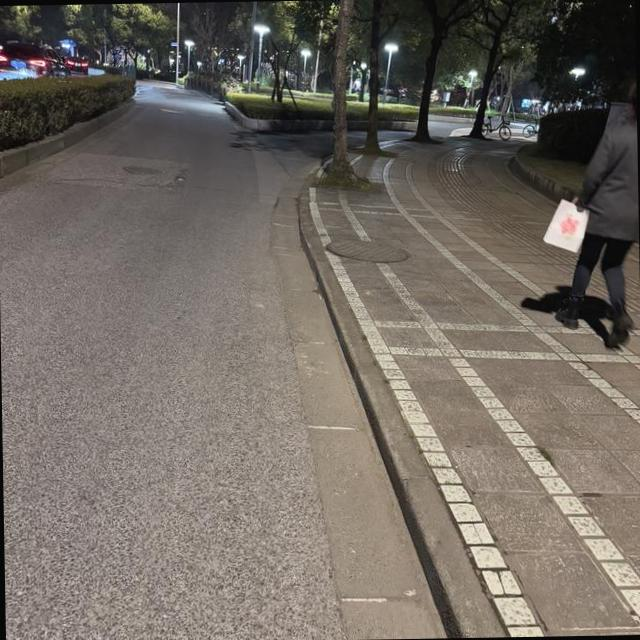curb: (295, 196, 507, 637), (0, 101, 132, 177), (508, 148, 571, 202), (226, 105, 331, 133), (378, 120, 415, 129), (348, 119, 366, 129)
